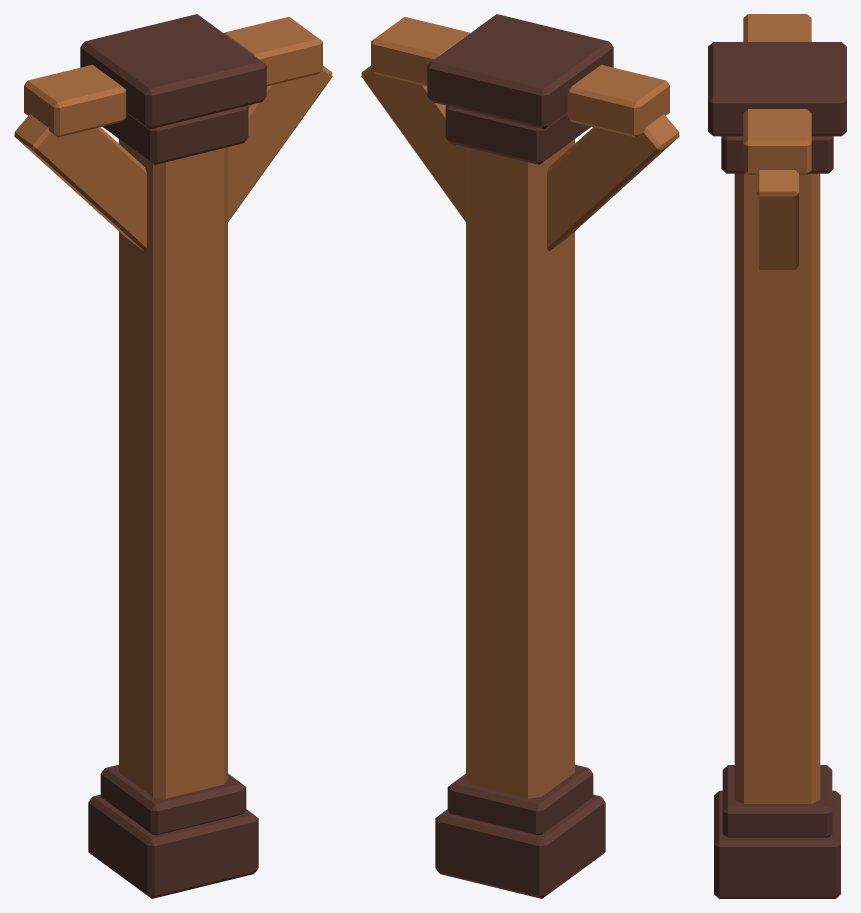
Rendered from column.glb.
3 views of the same model, side by side, from view 1: azimuth 30°, elevation 25°; view 2: azimuth 150°, elevation 25°; view 3: azimuth 270°, elevation 25° (orthographic).
Parts seen in each view (by area): view 1: Encaixe, Moldura; view 2: Encaixe, Moldura; view 3: Encaixe, Moldura.
Part boxes in pixels (x1=…): Encaixe: x1=14, y1=17, x2=332, y2=798; Moldura: x1=80, y1=14, x2=266, y2=898; Encaixe: x1=361, y1=17, x2=679, y2=798; Moldura: x1=427, y1=14, x2=613, y2=898; Encaixe: x1=734, y1=14, x2=820, y2=803; Moldura: x1=708, y1=42, x2=846, y2=898.
Bounding box in the file's own units: 1.16 × 3 × 0.4699.
